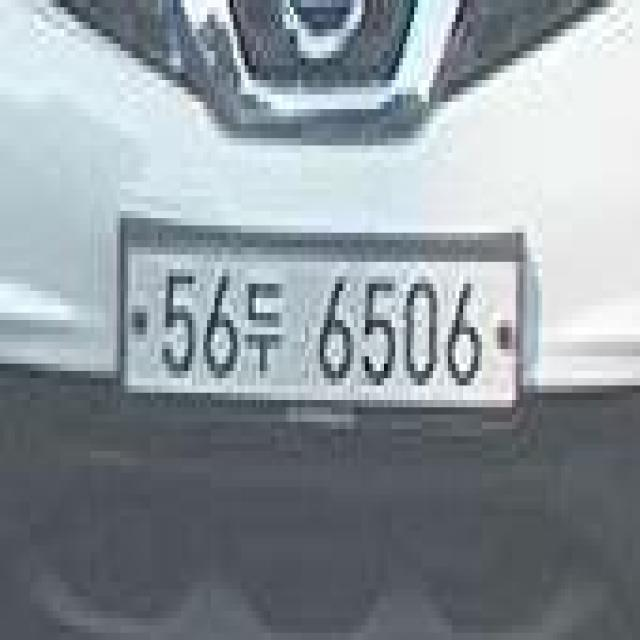illegal_plate: (113, 210, 532, 442)
